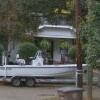Boat: (0, 50, 94, 93)
